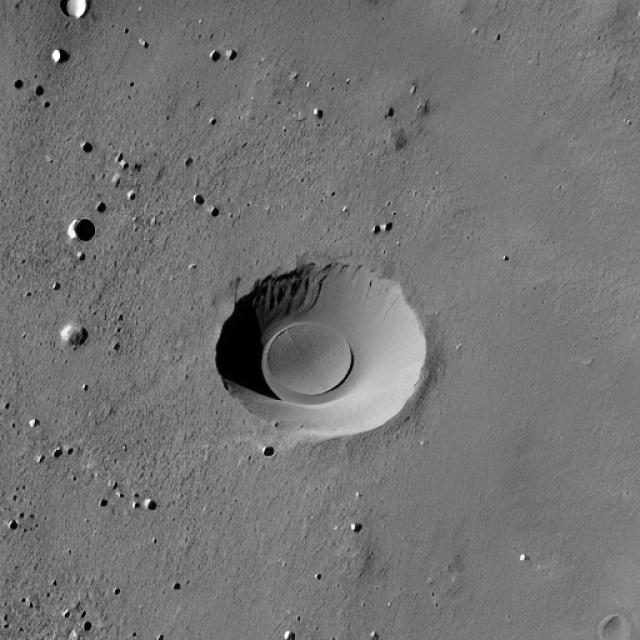crater: (215, 261, 428, 440)
